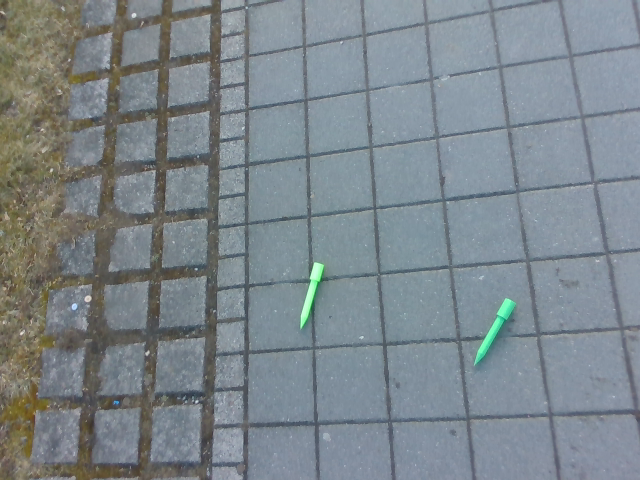Probe: (470, 290, 520, 374), (296, 258, 329, 334)
